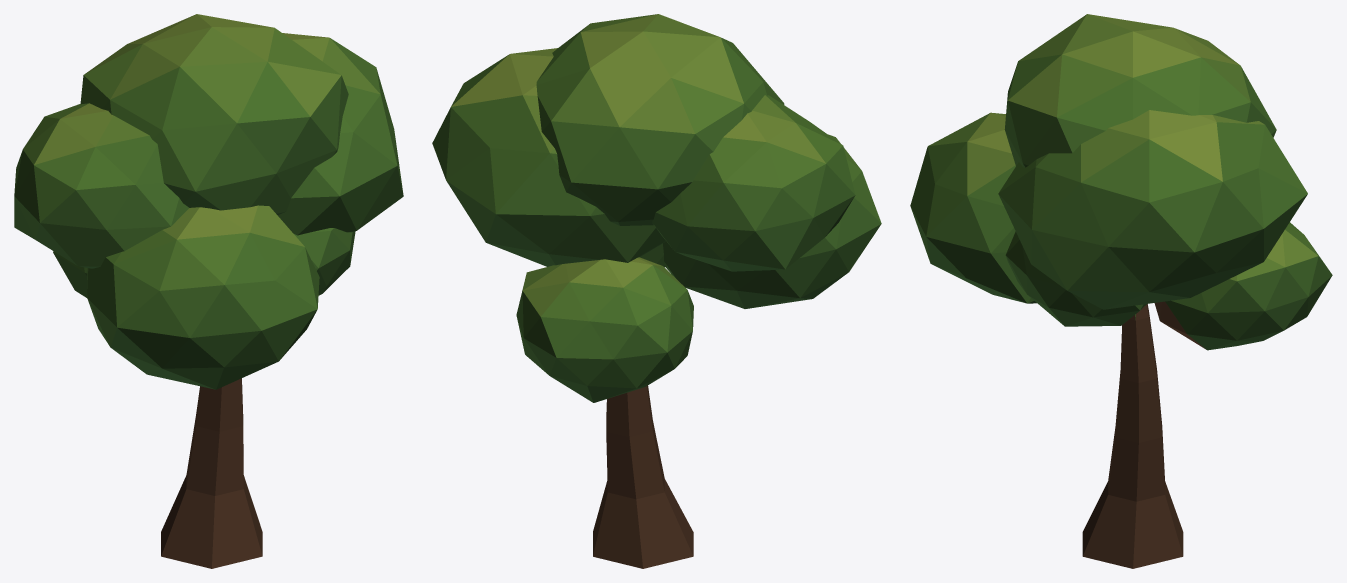
File: tree_orchard_round.glb
The picture shows the model from 3 angles, left to right: view 1: azimuth 30°, elevation 25°; view 2: azimuth 150°, elevation 25°; view 3: azimuth 270°, elevation 25°; orthographic projection.
Parts seen in each view (by area): view 1: tree_orchard_round; view 2: tree_orchard_round; view 3: tree_orchard_round.
Part boxes in pixels (<box>): tree_orchard_round: <box>14,14,403,568</box>; tree_orchard_round: <box>432,14,881,568</box>; tree_orchard_round: <box>910,14,1332,568</box>.
Size of the model in its own units: 5.54 by 7.3 by 5.45.
